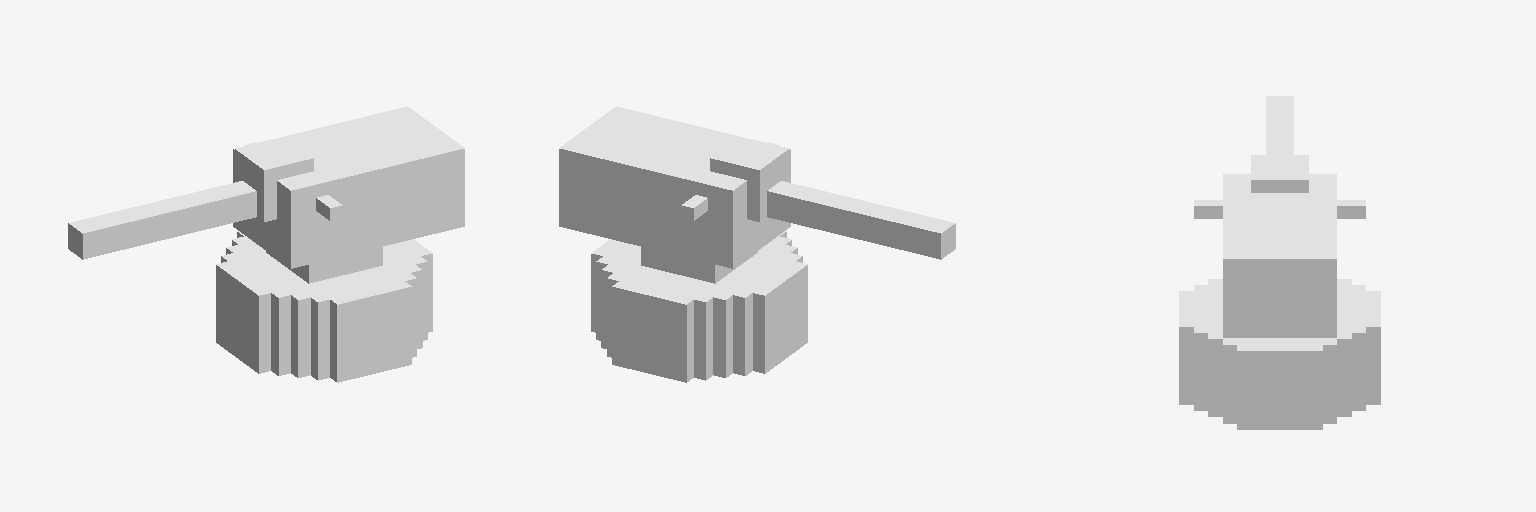
File: military-ship-0.obj
3 views of the same model, side by side, from view 1: azimuth 30°, elevation 25°; view 2: azimuth 150°, elevation 25°; view 3: azimuth 270°, elevation 25° (orthographic).
Visible parts, largest first — view 1: object 1; view 2: object 1; view 3: object 1.
Part boxes in pixels (x1,y1,x2,y2): object 1: (68, 106, 464, 382); object 1: (559, 106, 955, 382); object 1: (1179, 96, 1380, 429).
Size of the model in its own units: 2.9 by 1.5 by 1.4.